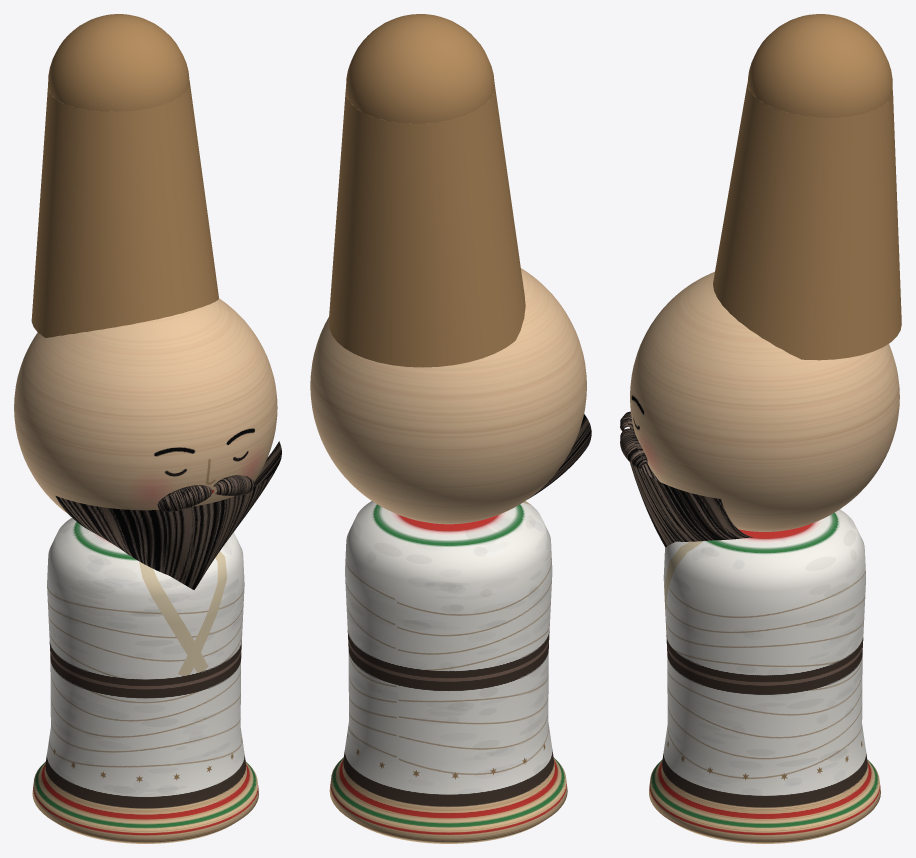
Rendered from rumi.glb.
3 views of the same model, side by side, from view 1: azimuth 30°, elevation 25°; view 2: azimuth 150°, elevation 25°; view 3: azimuth 270°, elevation 25° (orthographic). The views are drawn at different scales.
Parts seen in each view (by area): view 1: Rumi, body, head; view 2: body, Rumi, head; view 3: body, Rumi, head.
Part boxes in pixels (left/top/right/bottom): Rumi: left=31, top=14, right=281, bottom=589; body: left=32, top=518, right=258, bottom=843; head: left=14, top=298, right=277, bottom=513; body: left=329, top=501, right=567, bottom=843; Rumi: left=328, top=14, right=591, bottom=498; head: left=310, top=268, right=586, bottom=524; body: left=649, top=509, right=880, bottom=843; Rumi: left=620, top=14, right=901, bottom=547; head: left=630, top=272, right=899, bottom=531.
Size of the model in its own units: 0.075 by 0.2383 by 0.0783.
Materials: 6 (4 with a texture image).
